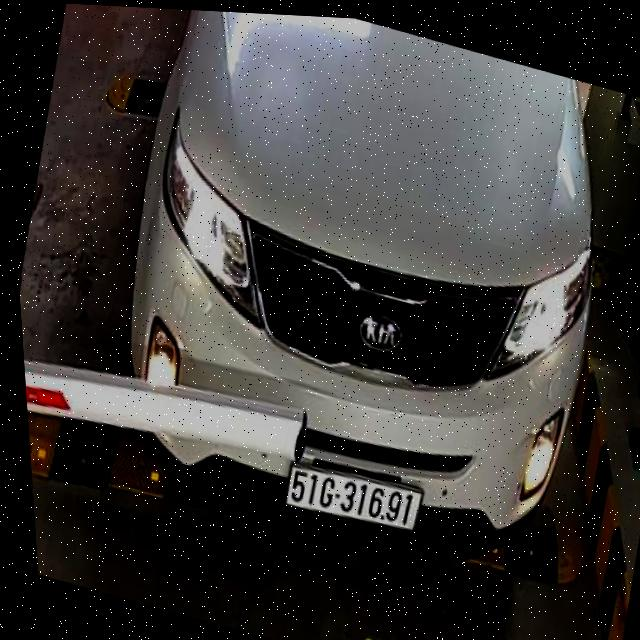car: (53, 3, 640, 620)
plate: (270, 452, 436, 546)
